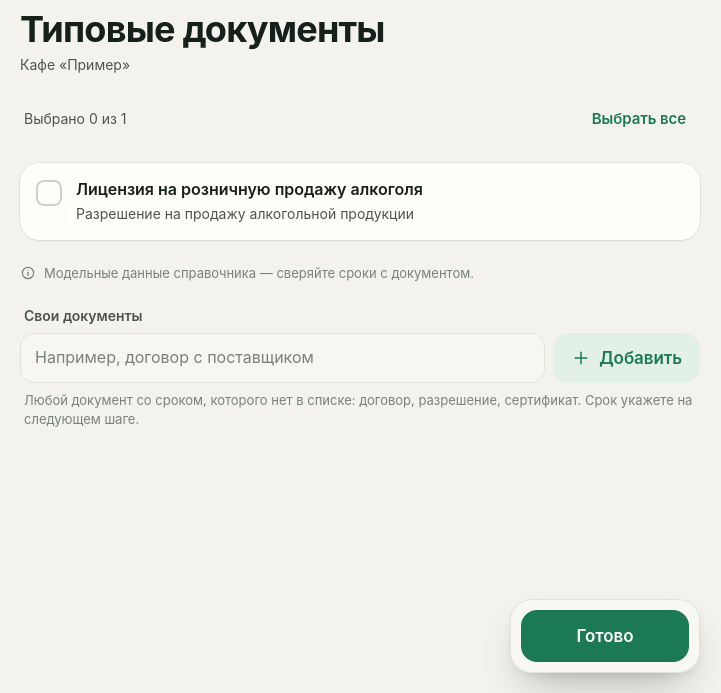
Test: T-FE-TYPICAL: подбор типовых и своих документов в разделе «Документы» (FR-27) › не добавляет пустые и повторяющиеся названия, свой документ можно убрать
This screenshot has width=721, height=693.
Step 1. Click the button "Добавить" → point(627, 358), box [553,333,700,383]
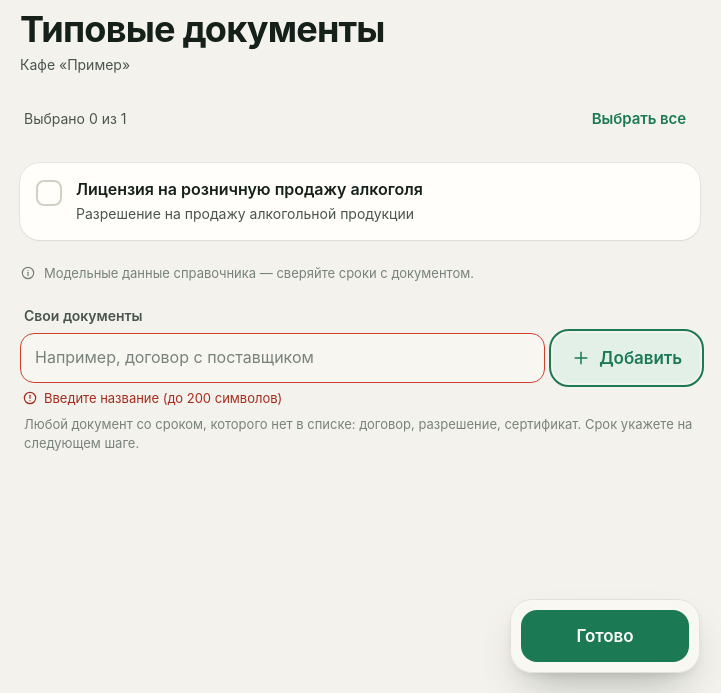
Expected: the text "Введите название (до 200 символов)" is shown, [22,390,282,406]
Step 2. Type "Договор с поставщиком" into the field named "Название своего документа" → point(283, 358), box [21,334,544,382]
Then press Enter
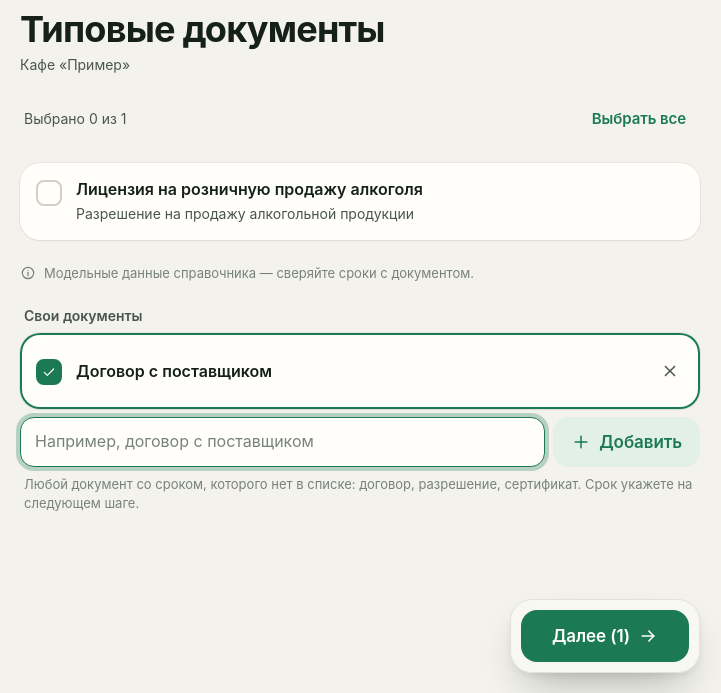
Step 3. Type "договор С поставщиком" into the field named "Название своего документа" → point(283, 442), box [21,418,544,466]
Then press Enter
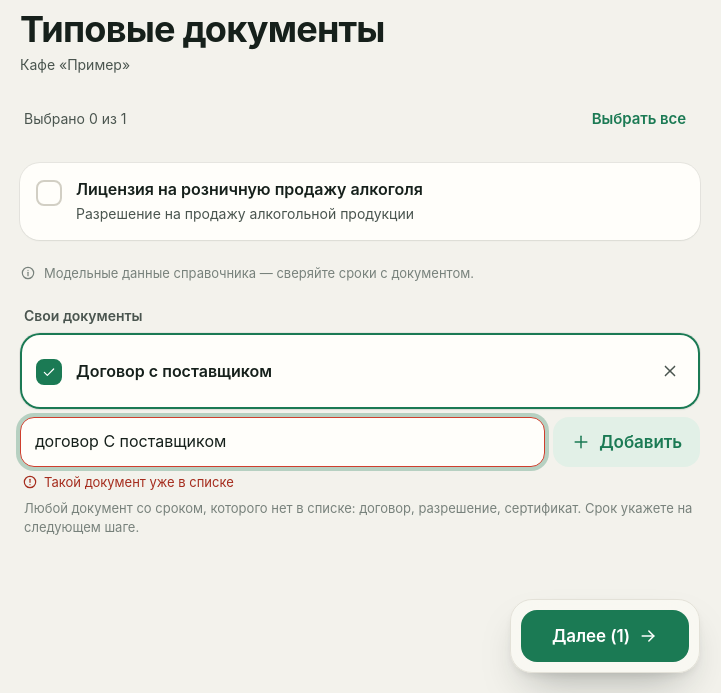
Expected: the text "Такой документ уже в списке" is shown, [22,474,234,490]
Step 4. Click the button named "Убрать «Договор с поставщиком»" → point(670, 371), box [648,349,692,393]
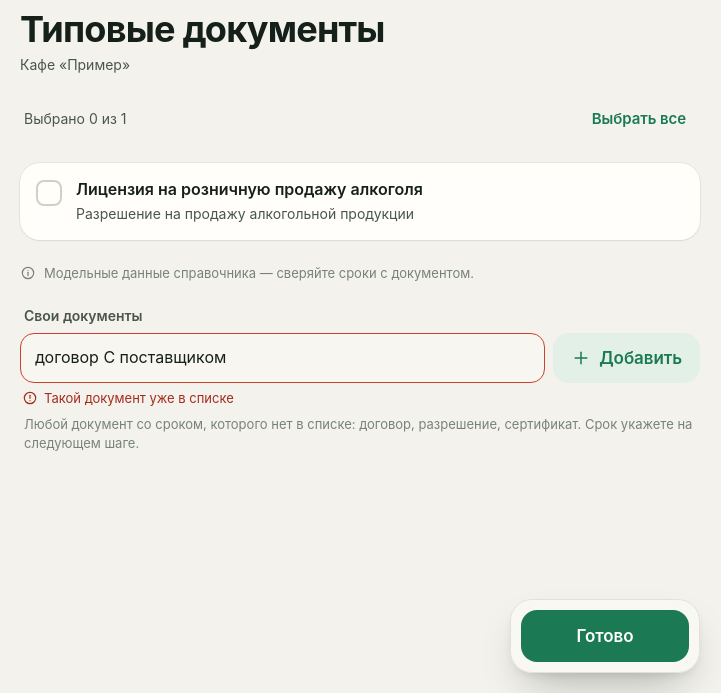
Expected: the button "Готово" is shown, [521,610,689,662]
